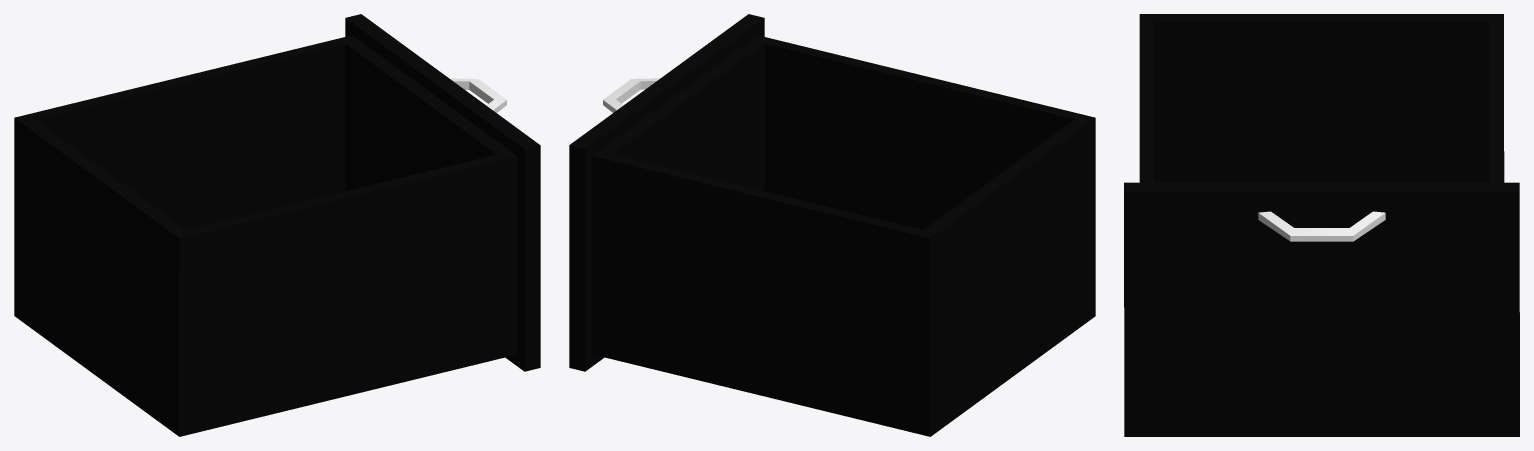
Rendered from Drawer_c70be976.obj.
The picture shows the model from 3 angles, left to right: view 1: azimuth 30°, elevation 25°; view 2: azimuth 150°, elevation 25°; view 3: azimuth 270°, elevation 25°; orthographic projection. The views are drawn at different scales.
Parts seen in each view (by area): view 1: FP423:Door_01_af1cf2a9; view 2: FP423:Door_01_af1cf2a9; view 3: FP423:Door_01_af1cf2a9.
Boxes of the visible parts, bbox=[...] form: FP423:Door_01_af1cf2a9: bbox=[14, 14, 540, 436]; FP423:Door_01_af1cf2a9: bbox=[569, 14, 1095, 436]; FP423:Door_01_af1cf2a9: bbox=[1124, 14, 1519, 436].
Size of the model in its own units: 0.5484 by 0.2948 by 0.4303.
